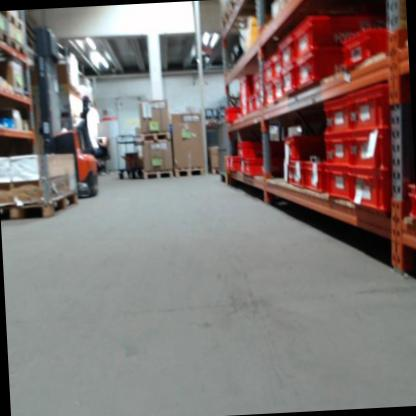pallet: (0, 190, 78, 222), (140, 130, 171, 143), (7, 12, 26, 32), (9, 35, 26, 57), (173, 166, 204, 178), (141, 169, 174, 180), (0, 22, 9, 45)
pallet_truck: (27, 19, 104, 197)
small_load_carrier: (291, 9, 381, 61), (346, 127, 399, 215), (339, 24, 397, 65), (295, 50, 344, 97), (345, 80, 393, 126), (279, 124, 321, 160), (322, 129, 360, 168), (320, 163, 358, 202), (319, 94, 358, 131), (231, 135, 275, 162), (236, 156, 279, 180), (277, 30, 298, 72), (305, 159, 329, 195), (285, 158, 310, 191), (283, 65, 302, 99), (271, 48, 288, 80), (405, 176, 416, 223), (262, 54, 276, 82), (273, 76, 287, 102), (222, 153, 243, 170), (265, 87, 276, 107)
stillage: (212, 116, 235, 185)
